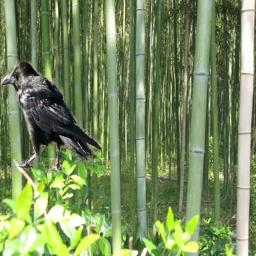Crow: (1, 59, 103, 177)
